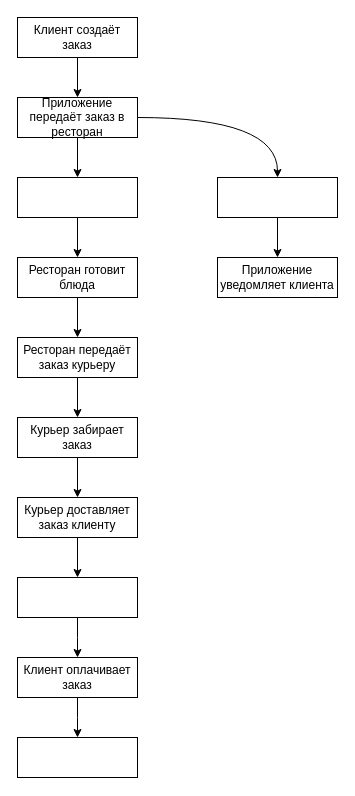
This 355x796 diagram has some shape labels left out. The shapes that lost their labels are listed below. From the top down, each one's centre as x and y in pixels, then its label:
At (77,197): "Ресторан принимает заказ".
At (277,197): "Ресторан отклоняет заказ".
At (77,597): "Клиент получает заказ".
At (77,757): "Приложение подтверждает оплату".
